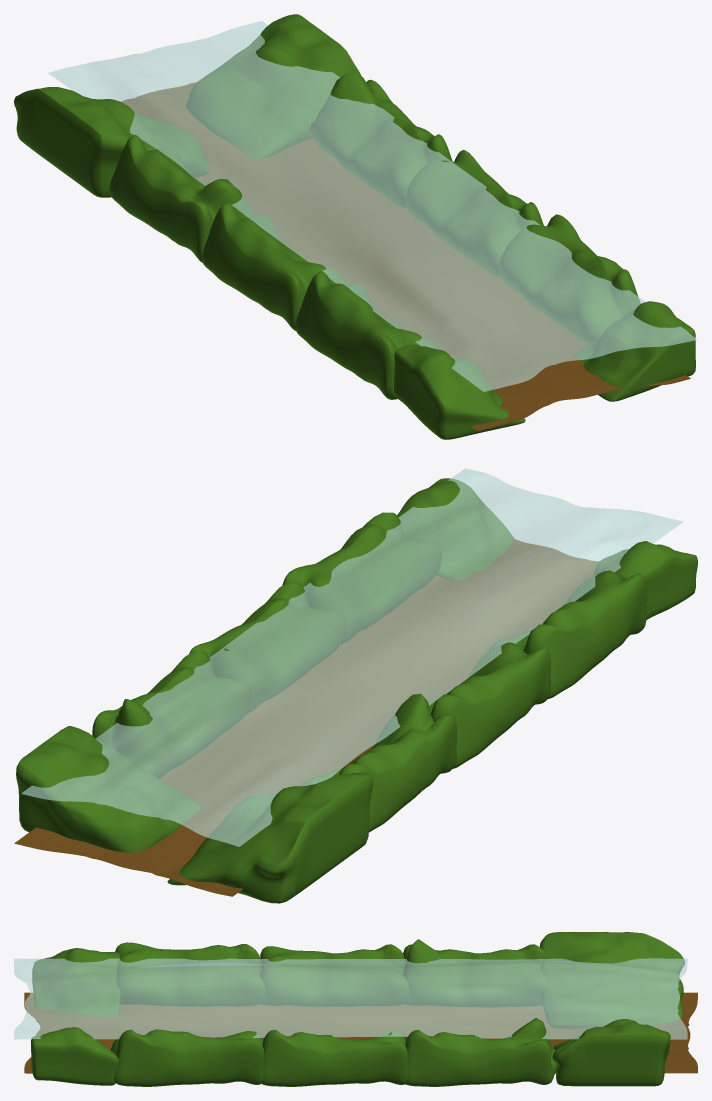
File: River.fbx
3 views of the same model, one above another, from view 1: azimuth 30°, elevation 25°; view 2: azimuth 150°, elevation 25°; view 3: azimuth 270°, elevation 25° (orthographic). The views are drawn at different scales.
Visible parts, largest first — view 1: Water, Water1, Mountain2, Mountain6, Mountain5, Mountain3, Mountain4, Mountain7, Mountain8, Mountain9, Mountain1, Mountain10; view 2: Water, Water1, Mountain6, Mountain2, Mountain3, Mountain5, Mountain4, Mountain9, Mountain7, Mountain8, Mountain1, Mountain10; view 3: Water, Water1, Mountain6, Mountain9, Mountain8, Mountain7, Mountain3, Mountain5, Mountain4, Mountain2, Mountain10, Mountain1.
Part boxes in pixels (x1=…): Water: x1=48, y1=21, x2=697, y2=391; Water1: x1=121, y1=82, x2=690, y2=430; Mountain2: x1=186, y1=14, x2=360, y2=159; Mountain6: x1=14, y1=87, x2=209, y2=197; Mountain5: x1=499, y1=214, x2=640, y2=343; Mountain3: x1=310, y1=71, x2=452, y2=208; Mountain4: x1=406, y1=150, x2=543, y2=276; Mountain7: x1=109, y1=135, x2=254, y2=262; Mountain8: x1=201, y1=202, x2=347, y2=330; Mountain9: x1=295, y1=271, x2=439, y2=399; Mountain1: x1=574, y1=301, x2=695, y2=401; Mountain10: x1=394, y1=344, x2=525, y2=439; Water: x1=21, y1=468, x2=682, y2=846; Water1: x1=14, y1=539, x2=599, y2=896; Mountain6: x1=167, y1=773, x2=372, y2=903; Mountain2: x1=16, y1=726, x2=201, y2=852; Mountain3: x1=92, y1=651, x2=251, y2=778; Mountain5: x1=282, y1=512, x2=441, y2=644; Mountain4: x1=189, y1=582, x2=345, y2=714; Mountain9: x1=489, y1=570, x2=646, y2=698; Mountain7: x1=302, y1=693, x2=456, y2=832; Mountain8: x1=428, y1=642, x2=550, y2=768; Mountain1: x1=397, y1=478, x2=514, y2=580; Mountain10: x1=563, y1=541, x2=697, y2=619; Water: x1=14, y1=958, x2=687, y2=1039; Water1: x1=24, y1=992, x2=697, y2=1073; Mountain6: x1=540, y1=932, x2=684, y2=1028; Mountain9: x1=115, y1=942, x2=264, y2=1006; Mountain8: x1=260, y1=944, x2=408, y2=1006; Mountain7: x1=403, y1=939, x2=547, y2=1007; Mountain3: x1=405, y1=1018, x2=556, y2=1086; Mountain5: x1=111, y1=1029, x2=264, y2=1086; Mountain4: x1=261, y1=1030, x2=407, y2=1086; Mountain2: x1=552, y1=1019, x2=670, y2=1086; Mountain10: x1=32, y1=948, x2=120, y2=1022; Mountain1: x1=30, y1=1027, x2=118, y2=1085.
Size of the model in its own units: 1200 by 341 by 3276.
